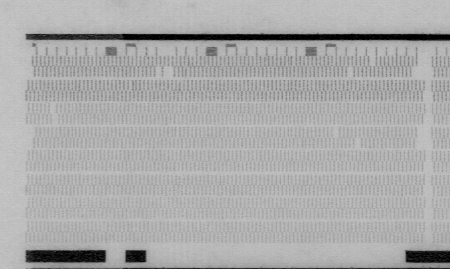Broken hole: (410, 56, 426, 80), (412, 126, 428, 149), (48, 103, 62, 127), (154, 67, 177, 80), (330, 125, 342, 140), (352, 137, 364, 150), (368, 54, 379, 68), (345, 66, 358, 77)
